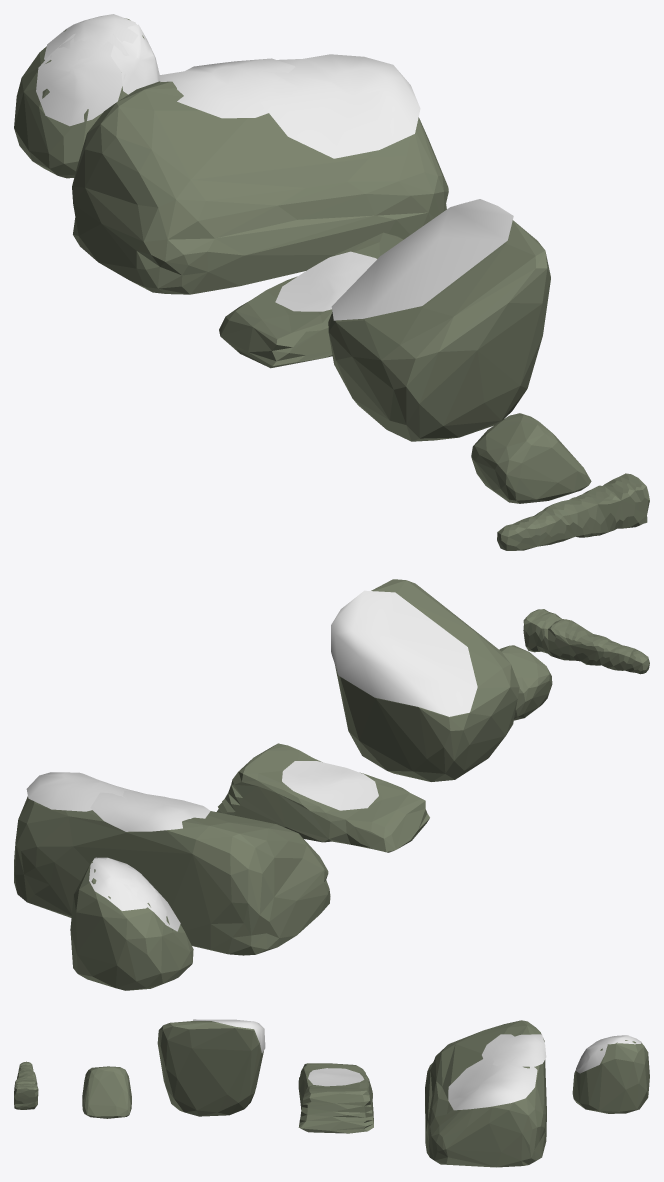
File: stone_2.fbx
The picture shows the model from 3 angles, top to bottom: view 1: azimuth 30°, elevation 25°; view 2: azimuth 150°, elevation 25°; view 3: azimuth 270°, elevation 25°; orthographic projection. The views are drawn at different scales.
Visible parts, largest first — view 1: dark_stone_2, dark_stone_4, leaves_2, leaves_4, leaves_1, dark_stone_5, dark_stone_3, dark_stone_6, dark_stone_1, leaves_3; view 2: dark_stone_2, dark_stone_4, leaves_4, dark_stone_3, dark_stone_1, leaves_2, dark_stone_6, leaves_3, leaves_1, dark_stone_5; view 3: dark_stone_2, dark_stone_4, leaves_2, dark_stone_1, dark_stone_3, dark_stone_5, dark_stone_6, leaves_1, leaves_3, leaves_4.
Boxes of the visible parts, x1,y1,x2,y2 form: dark_stone_2: (72, 81, 448, 294); dark_stone_4: (328, 220, 550, 441); leaves_2: (158, 54, 420, 158); leaves_4: (331, 199, 513, 320); leaves_1: (36, 14, 159, 126); dark_stone_5: (471, 413, 591, 503); dark_stone_3: (219, 232, 403, 368); dark_stone_6: (497, 473, 649, 550); dark_stone_1: (14, 18, 144, 178); leaves_3: (275, 251, 376, 311); dark_stone_2: (14, 796, 330, 955); dark_stone_4: (335, 579, 519, 781); leaves_4: (331, 590, 477, 716); dark_stone_3: (217, 743, 429, 852); dark_stone_1: (70, 861, 193, 990); leaves_2: (26, 772, 210, 831); dark_stone_6: (523, 609, 649, 674); leaves_3: (282, 761, 378, 810); leaves_1: (89, 857, 180, 931); dark_stone_5: (499, 645, 552, 720); dark_stone_2: (425, 1020, 546, 1167); dark_stone_4: (157, 1021, 263, 1116); leaves_2: (448, 1034, 546, 1110); dark_stone_1: (572, 1040, 649, 1113); dark_stone_3: (298, 1063, 373, 1133); dark_stone_5: (82, 1066, 131, 1118); dark_stone_6: (14, 1061, 38, 1109); leaves_1: (575, 1035, 641, 1073); leaves_3: (308, 1068, 364, 1086); leaves_4: (193, 1019, 265, 1053).
Size of the model in its own units: 15.51 by 8.93 by 47.14.
